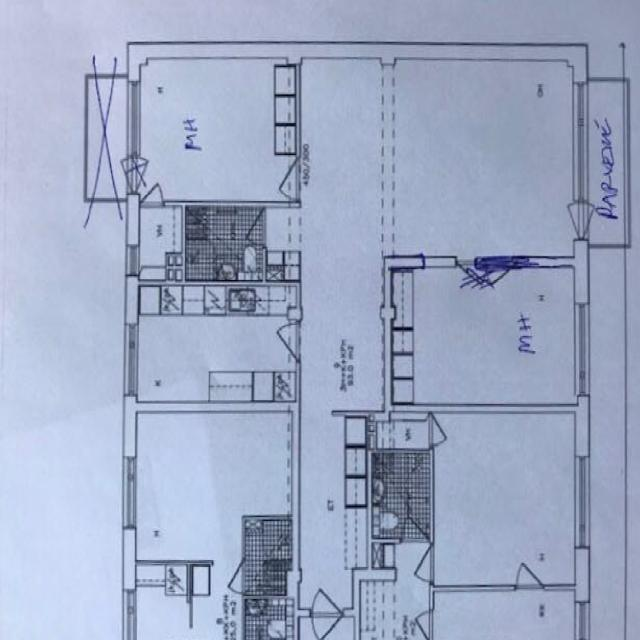door: (545, 202, 587, 239), (573, 202, 615, 239), (312, 568, 342, 618), (266, 159, 300, 199), (270, 324, 300, 360), (236, 210, 266, 246), (312, 608, 342, 640), (142, 170, 164, 207)
